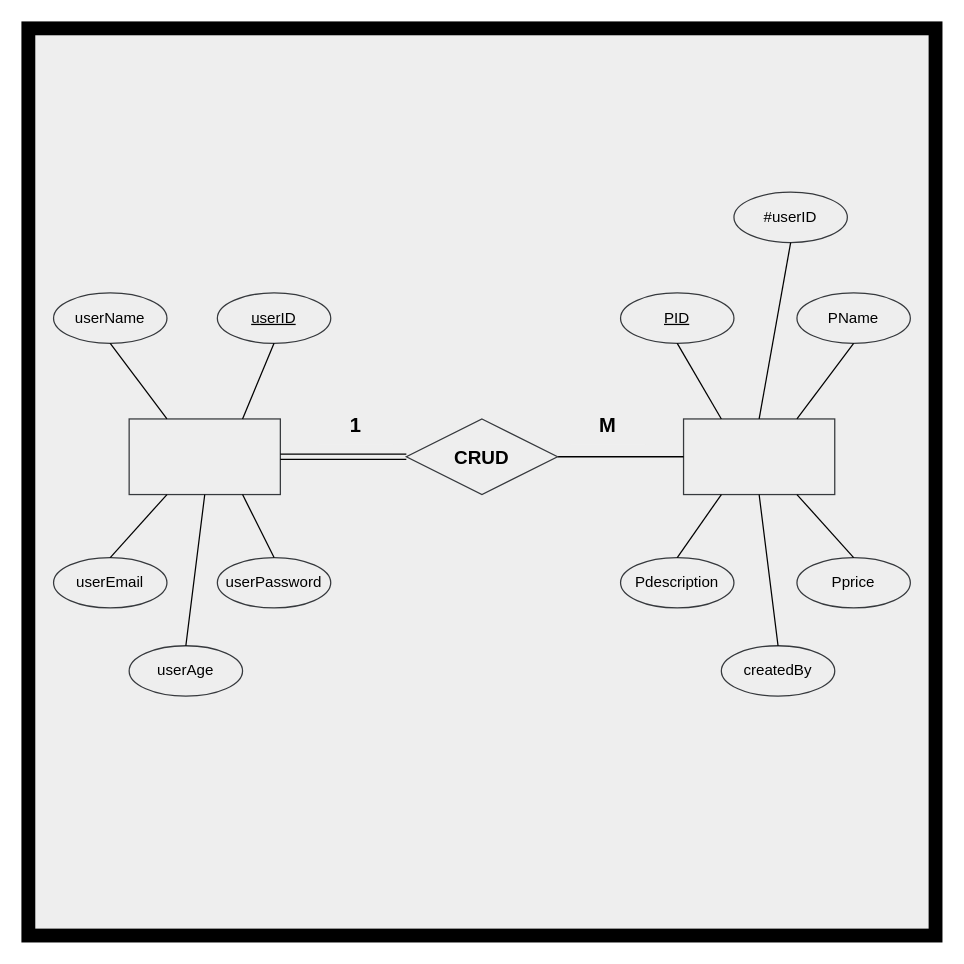
The diagram is 964 pixels wide and 964 high, and some of its shapes have lost their labels. Here are the shapes that lost their labels. From the top down, the centre of each, then its label:
At (x=204, y=456): "User".
At (x=758, y=456): "Product".
